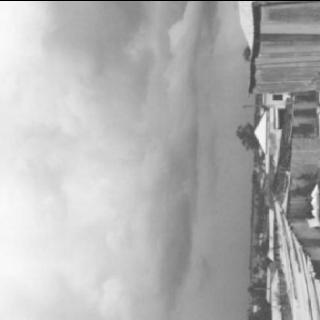Stratus: (1, 0, 230, 320)
